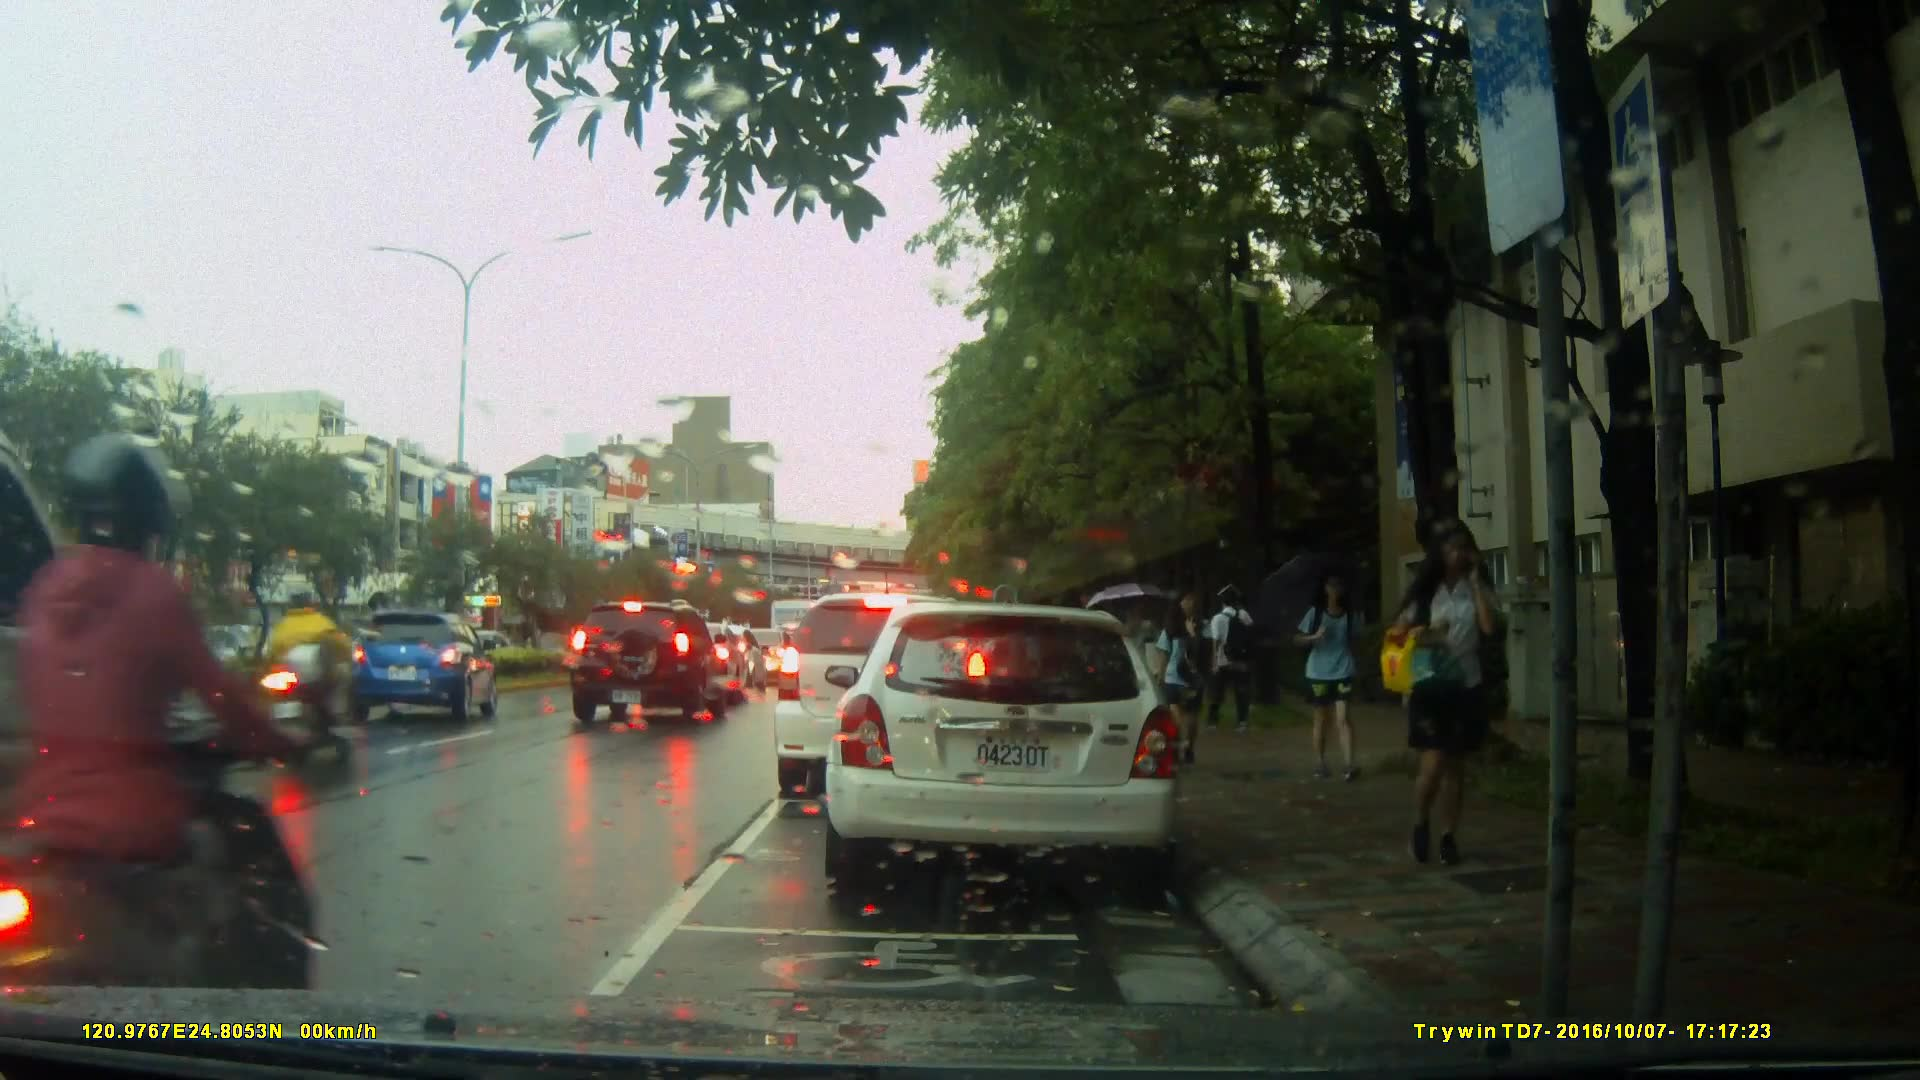pedestrian: (1402, 512, 1513, 870), (1296, 566, 1366, 787), (1164, 570, 1235, 762)
rider: (1, 425, 311, 1077), (262, 580, 353, 759)
vehicle: (815, 593, 1204, 909), (771, 590, 994, 802), (567, 600, 732, 726), (345, 610, 503, 723)
